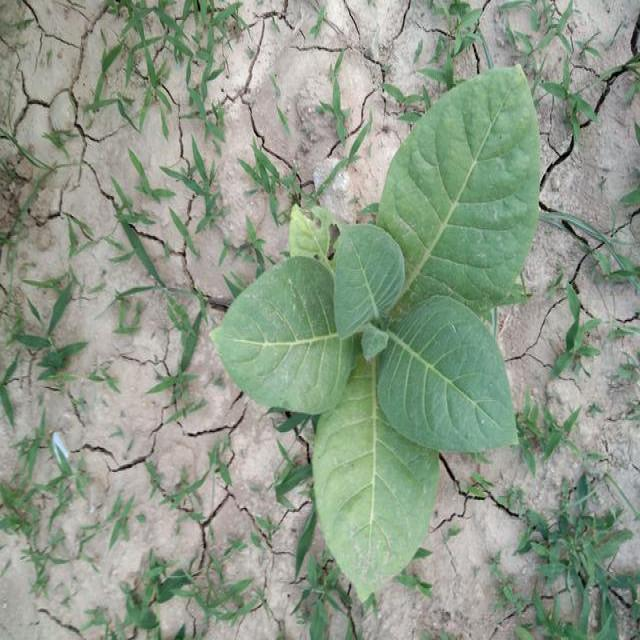crop: (228, 74, 536, 596)
